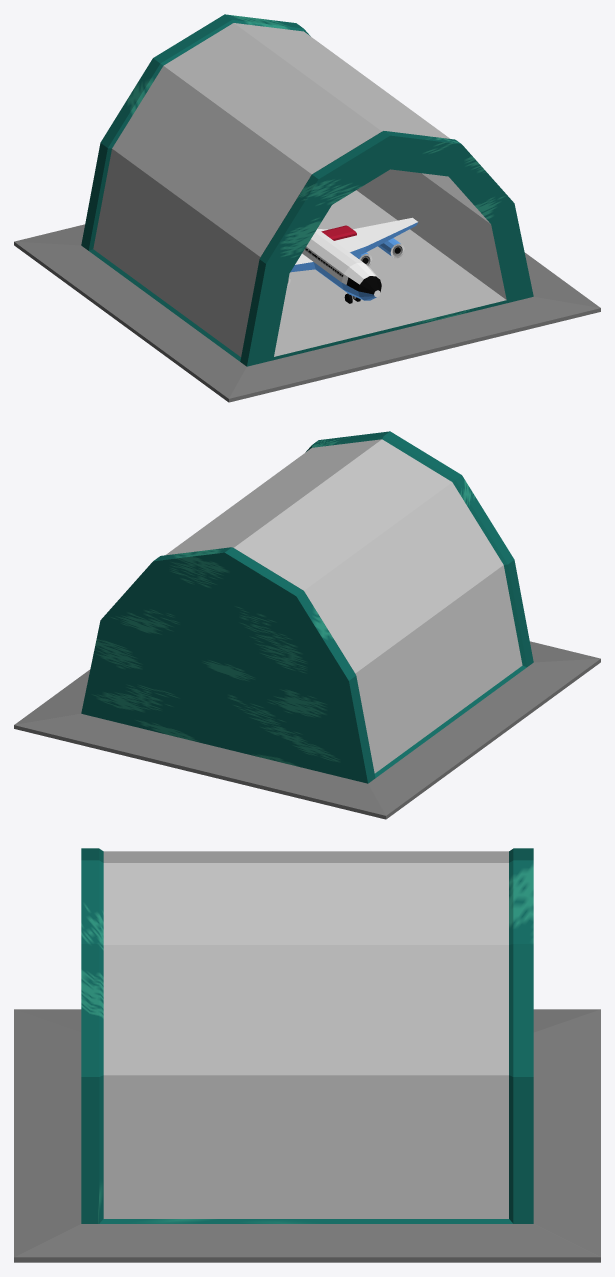
The model's file is planes.fbx.
3 renders of one model, top to bottom at view 1: azimuth 30°, elevation 25°; view 2: azimuth 150°, elevation 25°; view 3: azimuth 270°, elevation 25°, orthographic. The views are drawn at different scales.
Parts seen in each view (by area): view 1: Cylinder.002, Cylinder.001; view 2: Cylinder.002; view 3: Cylinder.002.
Boxes of the visible parts, box(x1,y1,x2,y2) form: Cylinder.002: box(14, 14, 600, 402); Cylinder.001: box(287, 217, 417, 303); Cylinder.002: box(14, 431, 600, 819); Cylinder.002: box(14, 848, 600, 1262).
Size of the model in its own units: 3986 by 2084 by 3986.
1 material, 1 textured.
